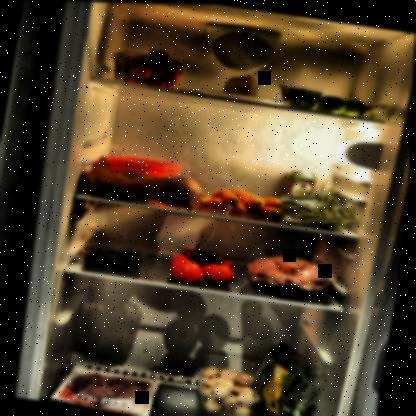blueberries: (83, 243, 149, 275)
butter: (98, 149, 189, 194)
carrot: (196, 180, 290, 222)
cheese: (223, 71, 264, 98)
chicken: (243, 248, 345, 305)
green_beans: (272, 180, 361, 234)
heavy_cream: (289, 167, 322, 203)
lime: (310, 90, 374, 119)
mushrooms: (192, 362, 265, 415)
spinach: (250, 337, 335, 415)
strawberries: (107, 40, 191, 92)
sweet_potato: (73, 160, 206, 212)
tomato: (166, 240, 243, 290)
